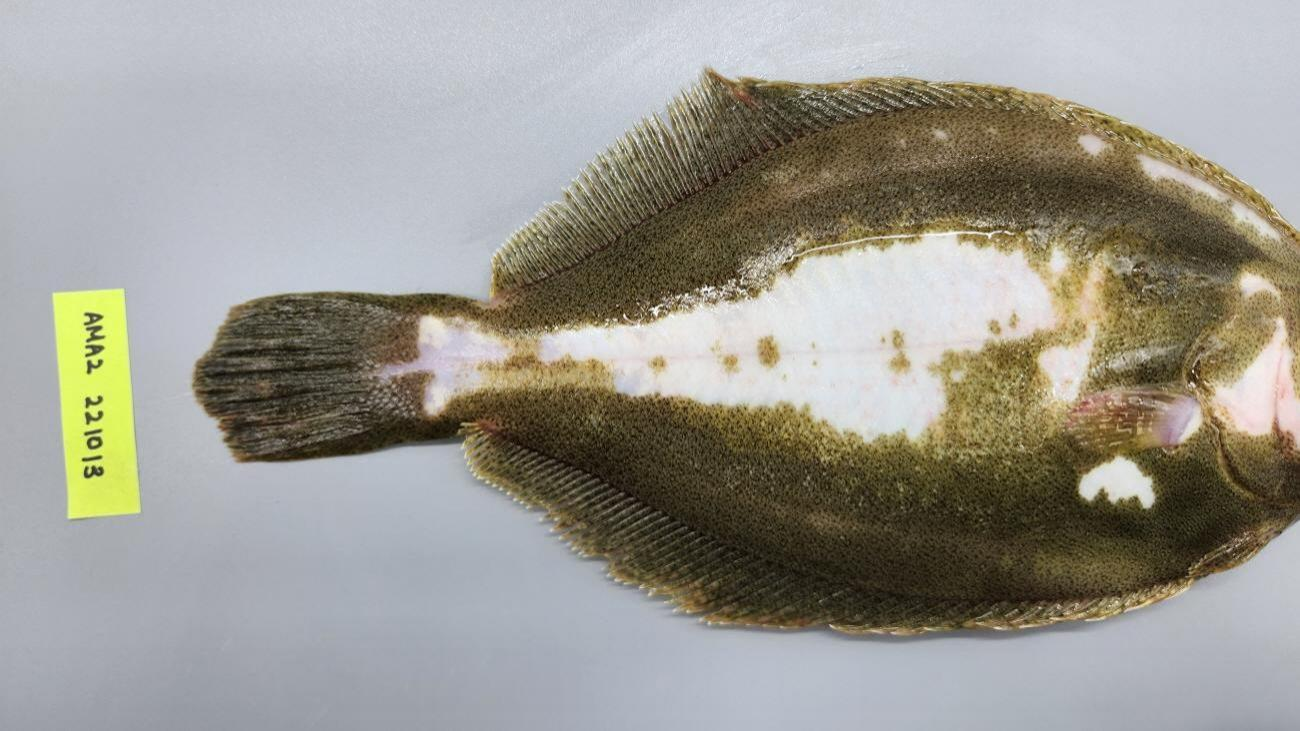MAFAH: (544, 510, 1181, 634)
MAFCH: (198, 393, 355, 458)
